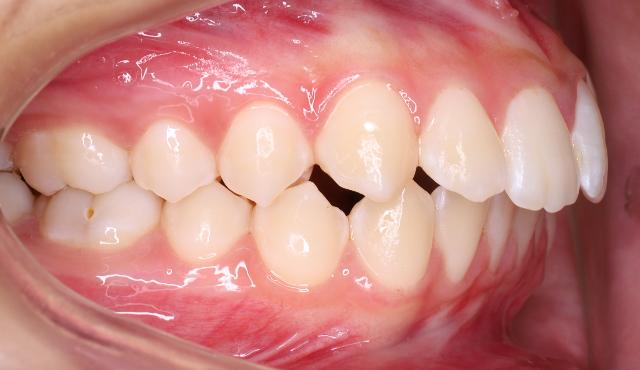canine class II 1/4: (246, 70, 438, 308)
molar class I: (10, 124, 164, 254)
